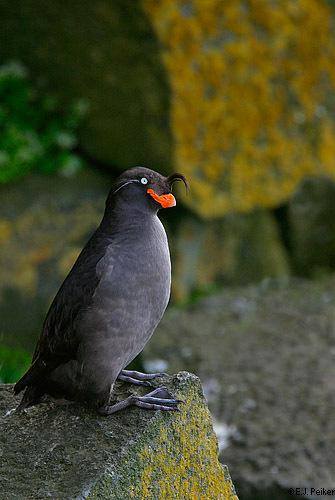005.Crested_Auklet: (17, 163, 194, 418)
